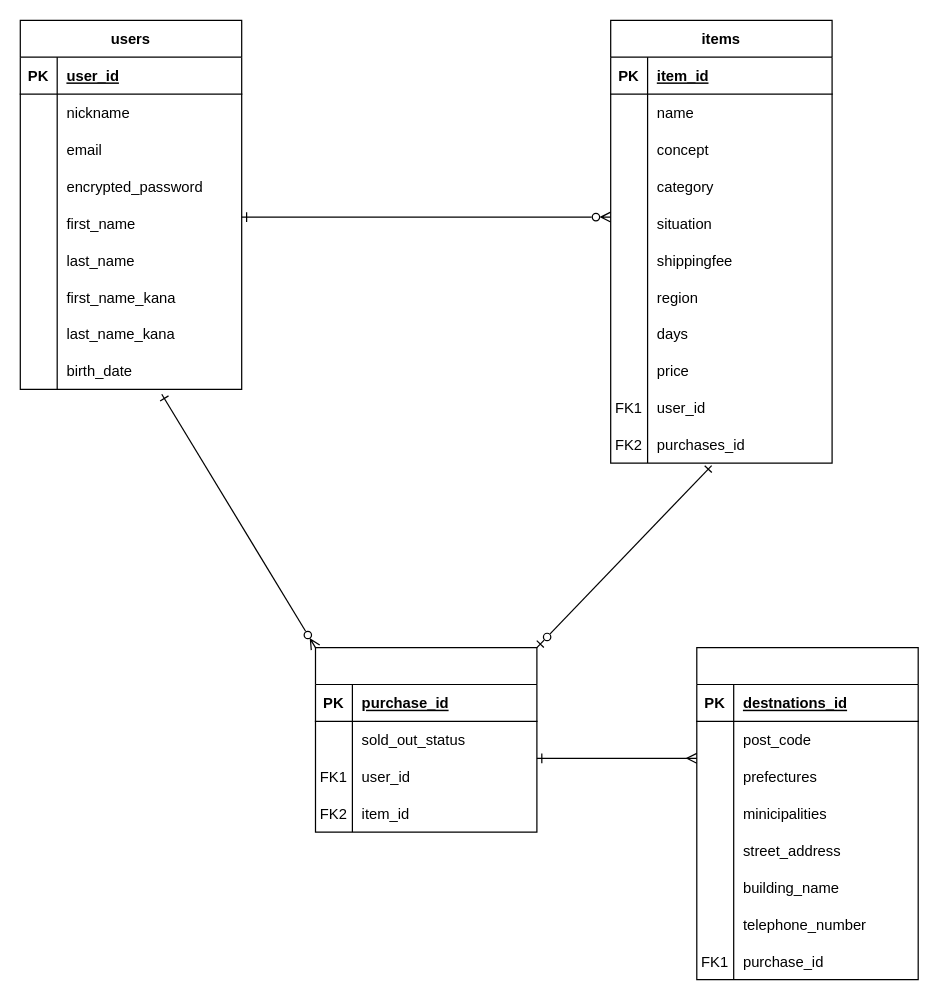
Some shapes in this 938 by 1000 pixel diagram are drawn without their labels. The box of each missing label's shape, as (x1, y1, x2, y2) in pixels:
destinations: (696, 646, 918, 980)
purchases: (314, 646, 537, 832)
